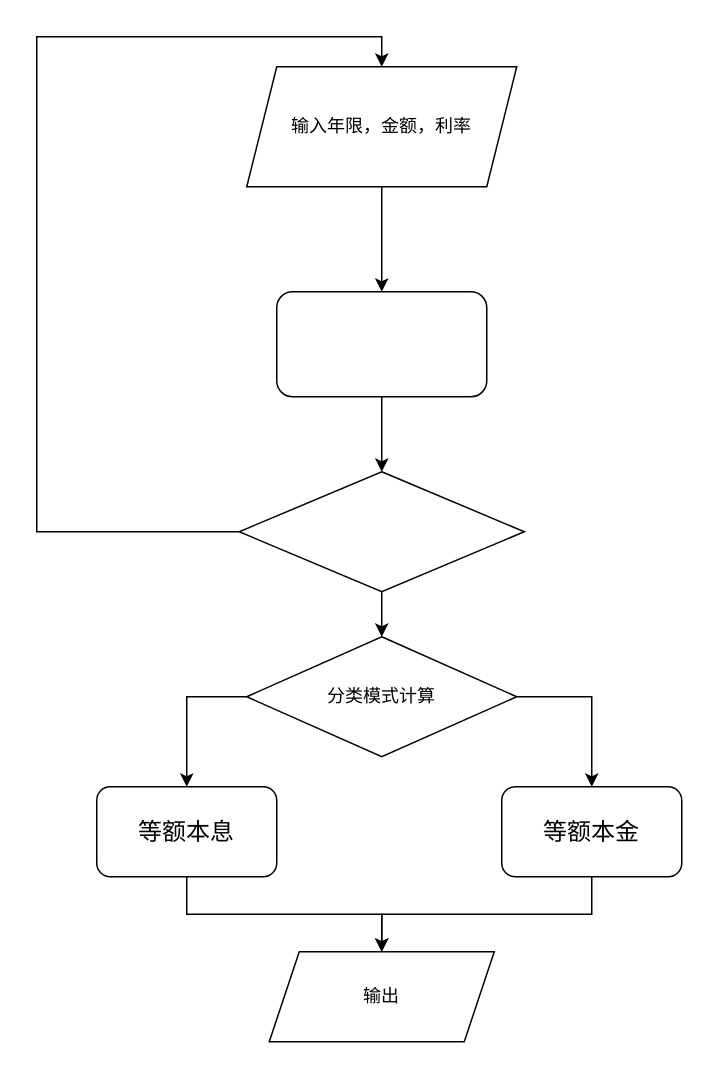
Some shapes in this 708 by 1068 pixel diagram are drawn without their labels. The shapes that lost their labels are listed below. From the top down, each one's box as (x1, y1, x2, y2) in pixels, then its label:
(275, 290, 487, 397): 确定还款模式
(238, 470, 524, 592): 判断输入正常
